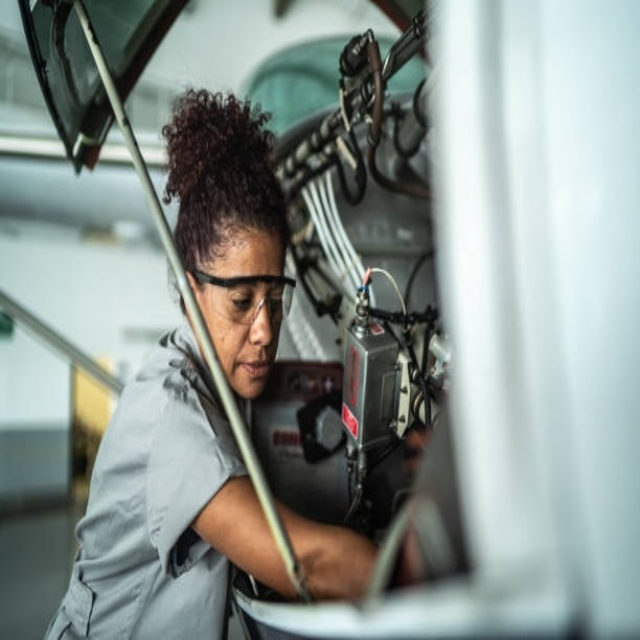Gafas: (190, 269, 297, 325)
Sin_mascara: (234, 350, 277, 397)
